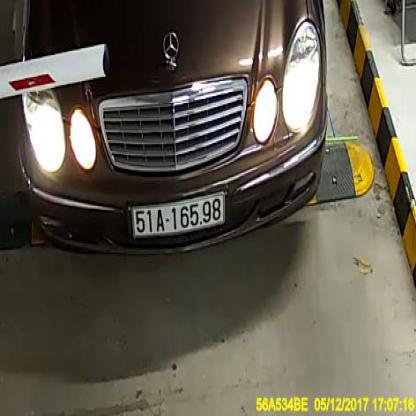biensoxe: (130, 190, 226, 237)
